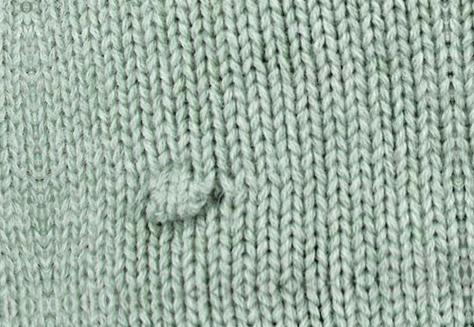knot: (139, 167, 221, 231)
